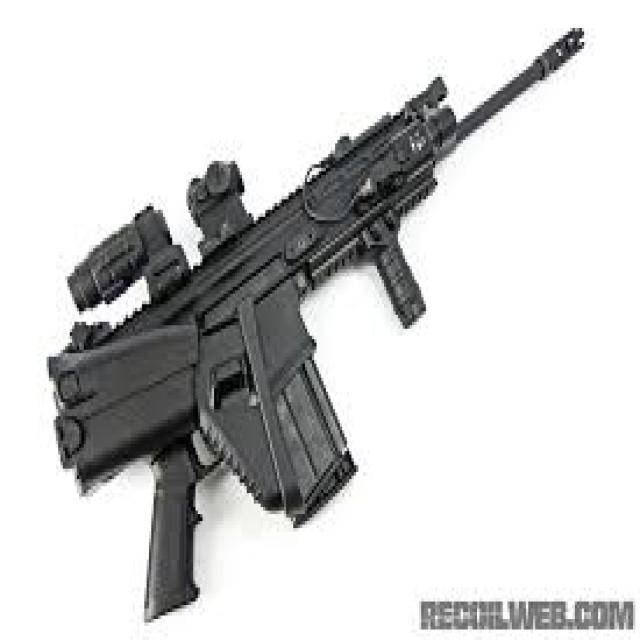Gun: (22, 32, 626, 598)
